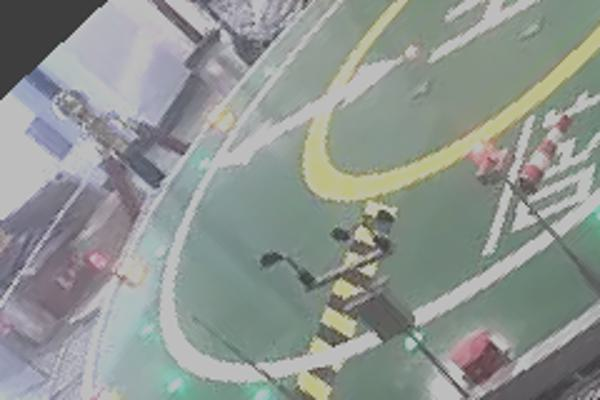Apron: (279, 1, 600, 207)
